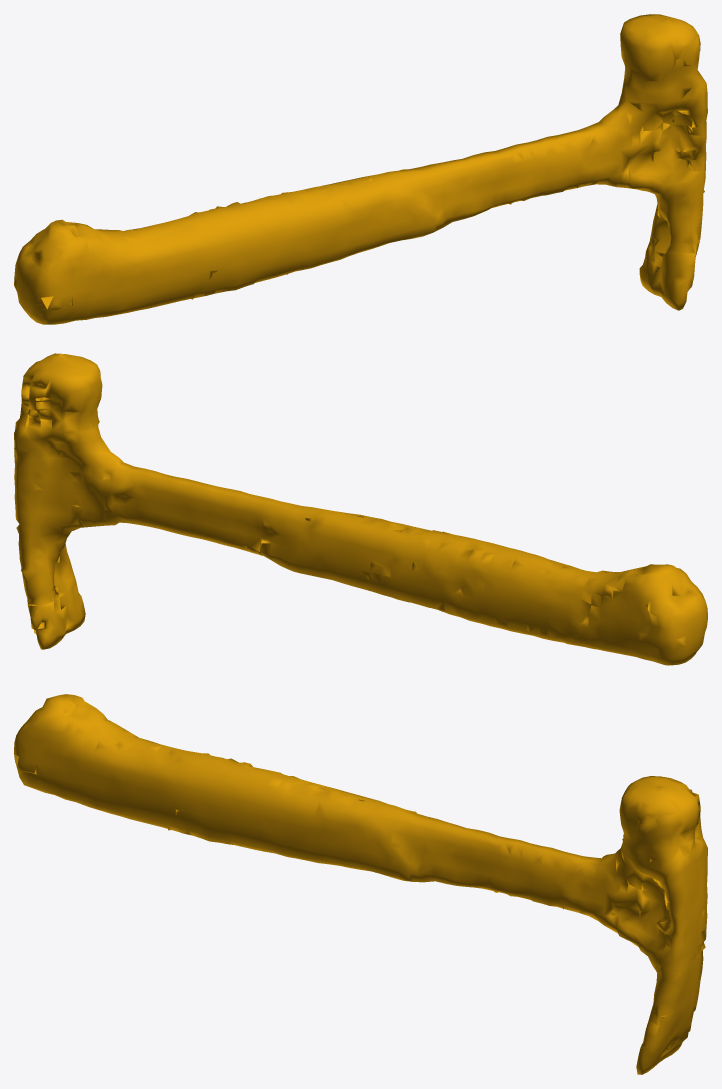
The model's file is model_origin.obj.
The picture shows the model from 3 angles, top to bottom: view 1: azimuth 30°, elevation 25°; view 2: azimuth 150°, elevation 25°; view 3: azimuth 330°, elevation 25°; orthographic projection.
Size of the model in its own units: 0.9981 by 0.3975 by 0.1073.
